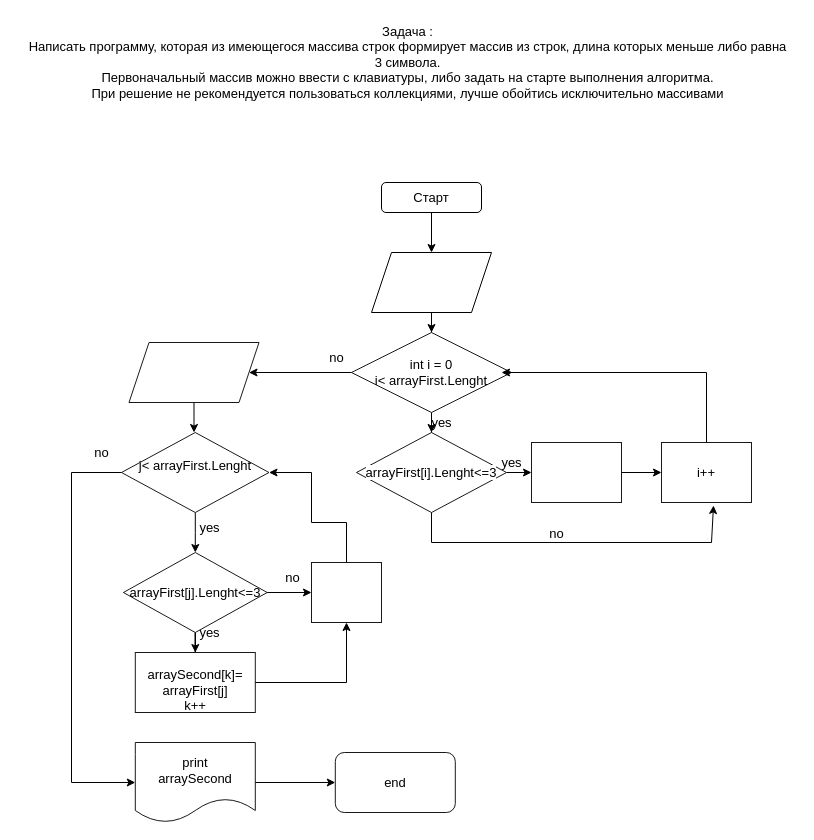
Image size: 814x840. Some labels were removed from this diagram. Here are the shapes that lost their labels. From the top down, the centre of each, then its label:
At point (431, 282): "arrayFirst int size=0".
At point (193, 372): "arraySecond[size] k = 0 j = 0".
At point (576, 472): "size++".
At point (346, 592): "j++".
